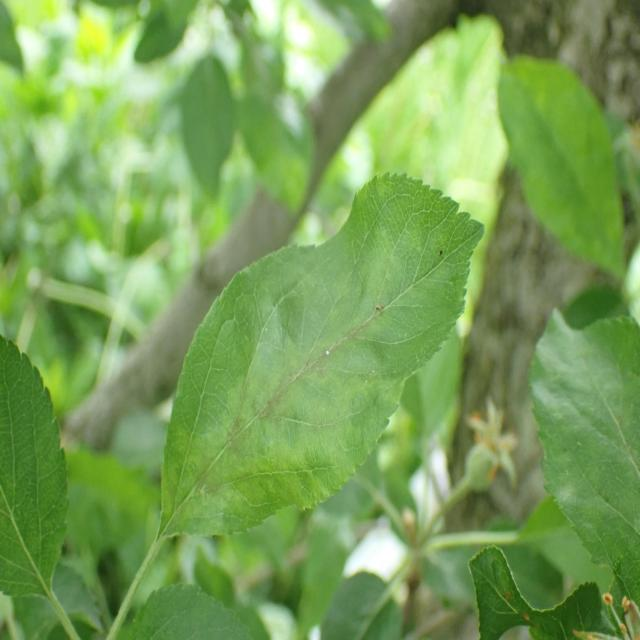scab: (169, 213, 413, 500)
